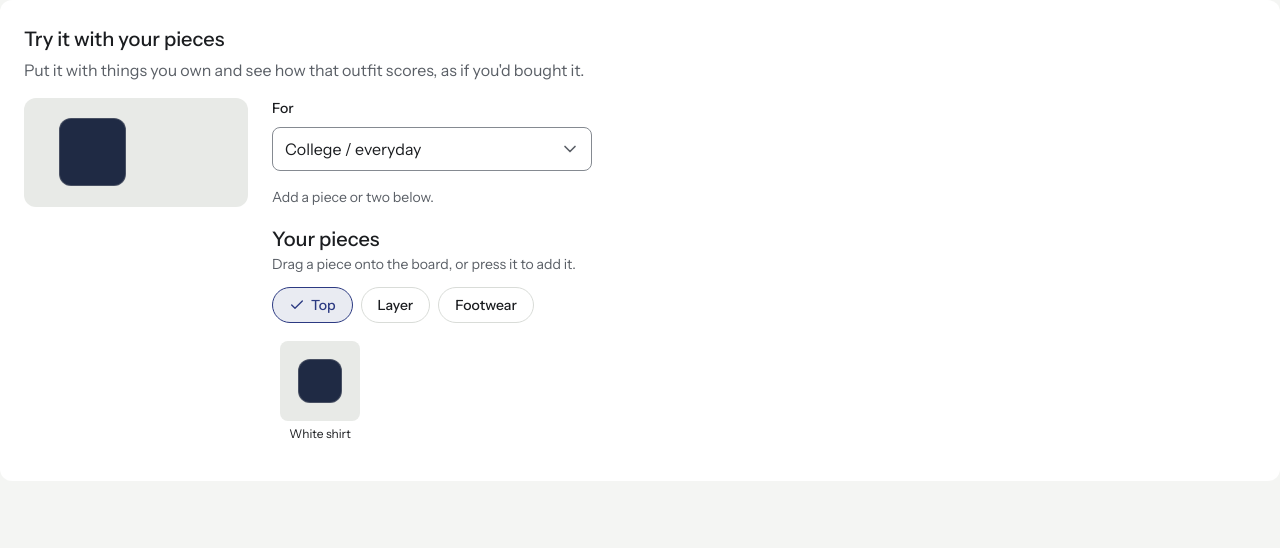
Test: scores the candidate with the pieces you add, and offers only slots that fit
Click the button with aria-label "Add: White shirt". click: (320, 392)
box: [272,335,368,449]
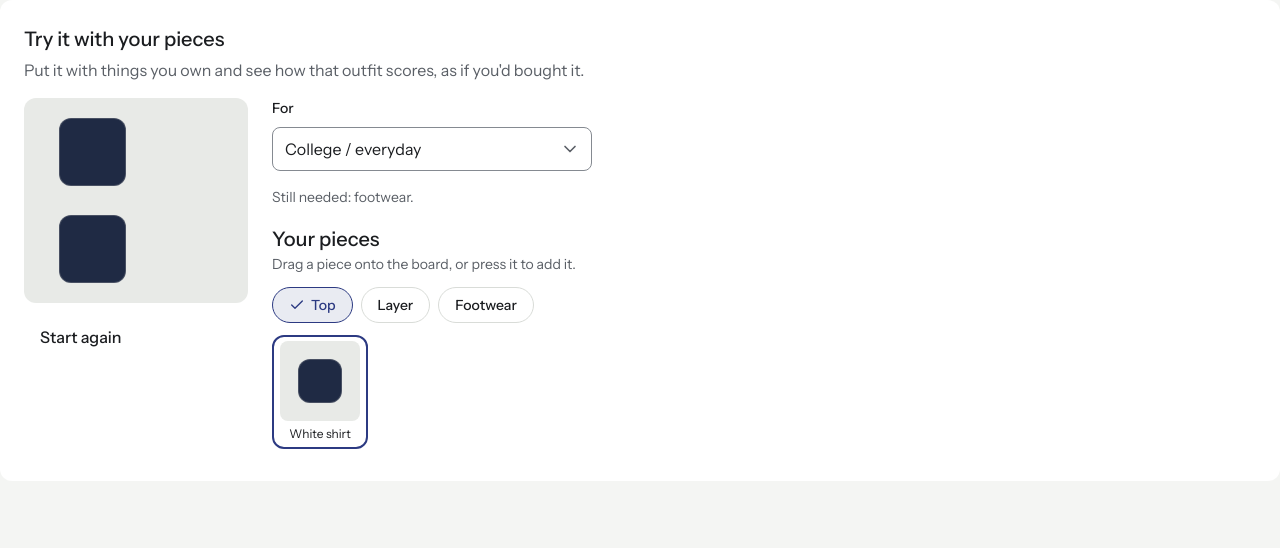
Expected: the text "Still needed: footwear." is shown, [272,188,414,206]
Click the button "Footwear". click: (486, 305)
box: [438,287,534,323]
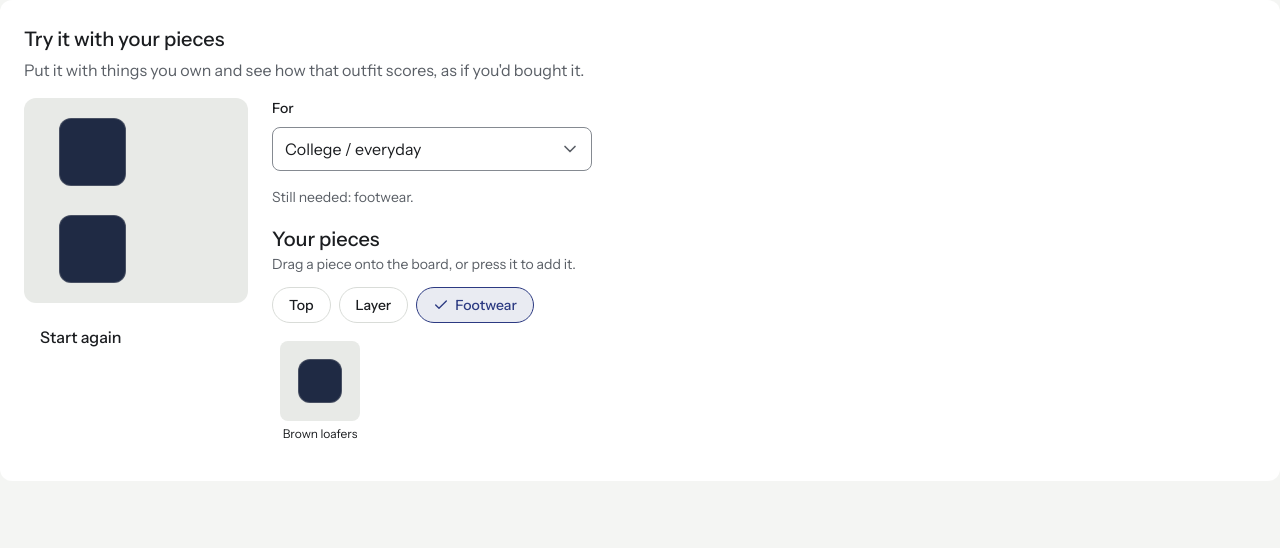
Click the button with aria-label "Add: Brown loafers". click: (320, 392)
box: [272,335,368,449]
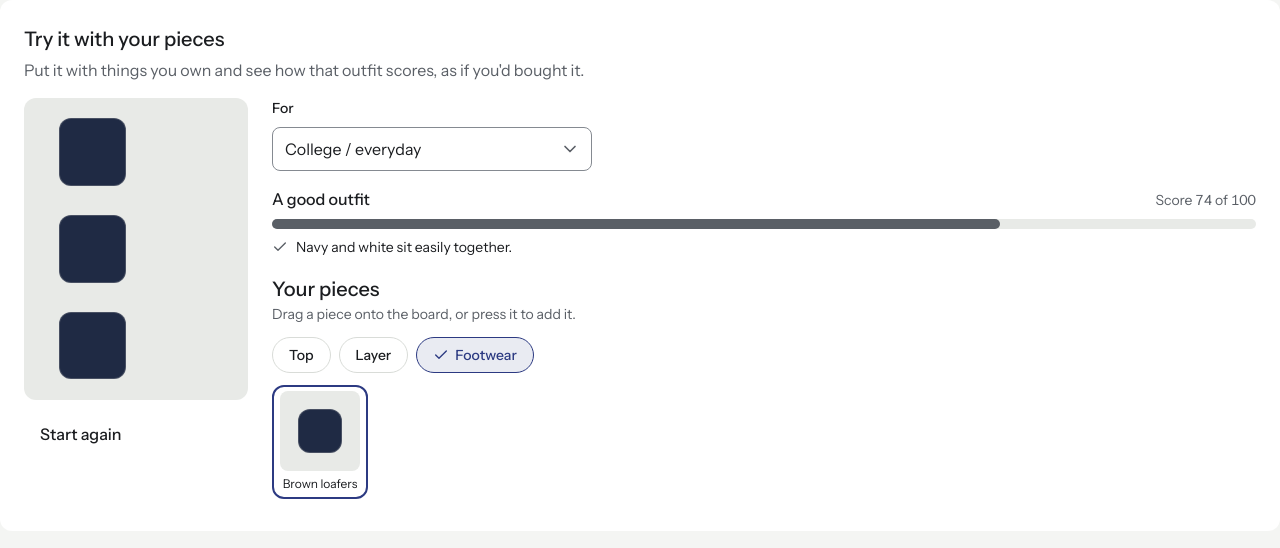
Expected: the text "Navy and white sit easily together." is shown, [296,237,512,258]
